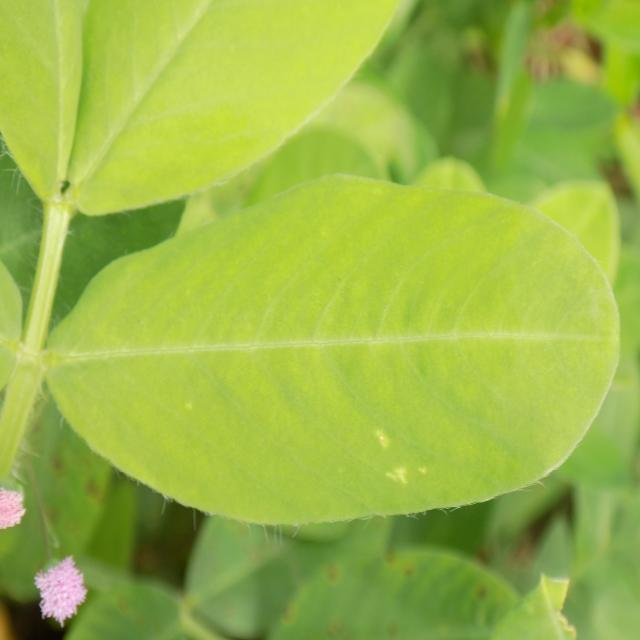Ground nut_healthy: (45, 173, 620, 527)
